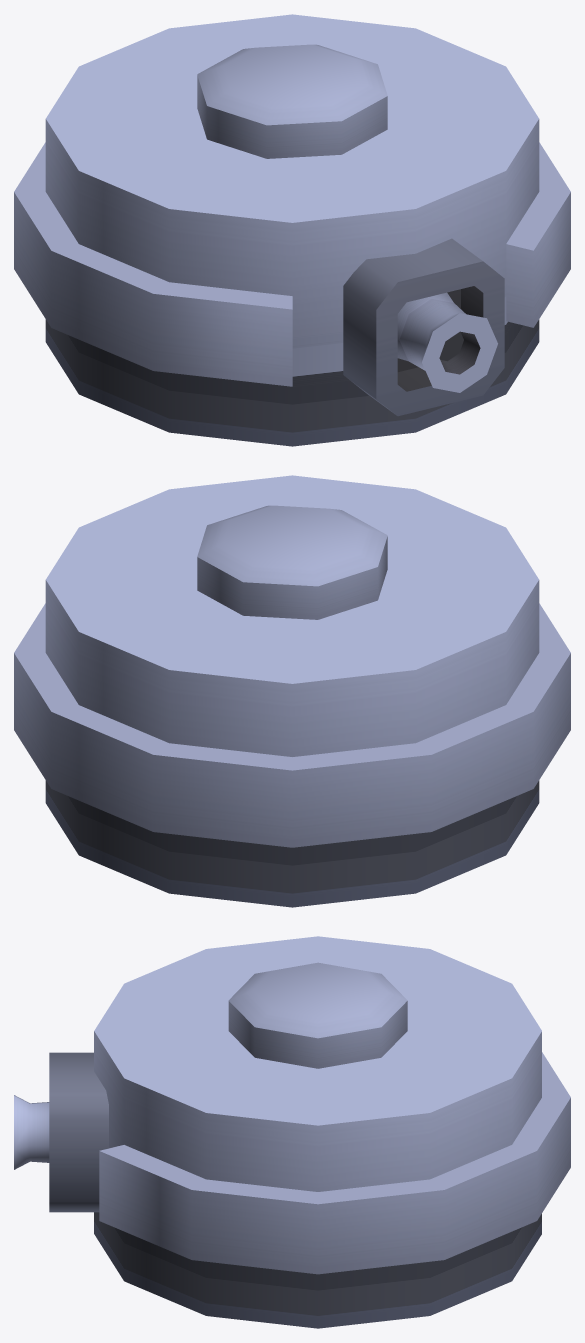
File: tower-round-middle-b.fbx
3 renders of one model, top to bottom at view 1: azimuth 30°, elevation 25°; view 2: azimuth 150°, elevation 25°; view 3: azimuth 270°, elevation 25°, orthographic. The views are drawn at different scales.
Visible parts, largest first — view 1: tower-round-middle-b; view 2: tower-round-middle-b; view 3: tower-round-middle-b.
Part boxes in pixels (x1,y1,x2,y2): tower-round-middle-b: [14, 14, 570, 446]; tower-round-middle-b: [14, 475, 570, 907]; tower-round-middle-b: [14, 936, 570, 1328].
Size of the model in its own units: 113 by 60 by 124.
